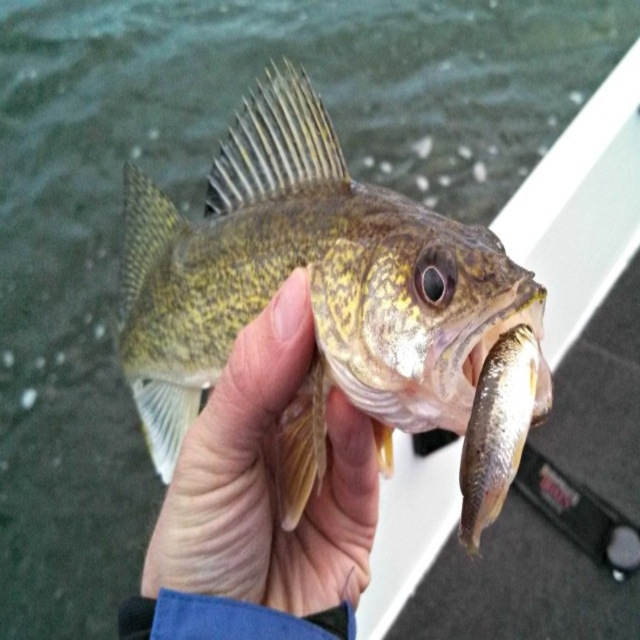Fish: (116, 53, 554, 531)
